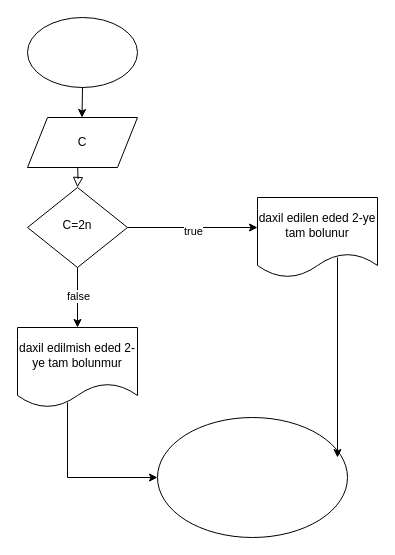
Image size: 395x555. Some labels were removed from this diagram. Each missing label, with the centre of its shape:
"end" belongs at (252,477).
"start" belongs at (82,52).
